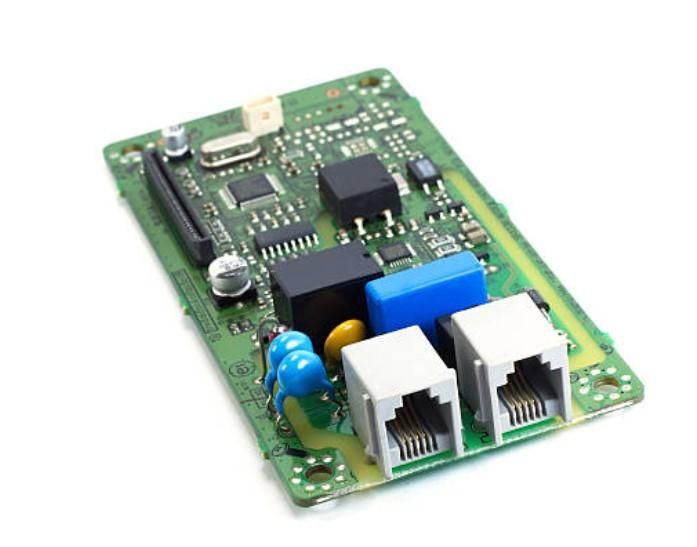Printed Circuit Board PCB: (103, 68, 645, 507)
